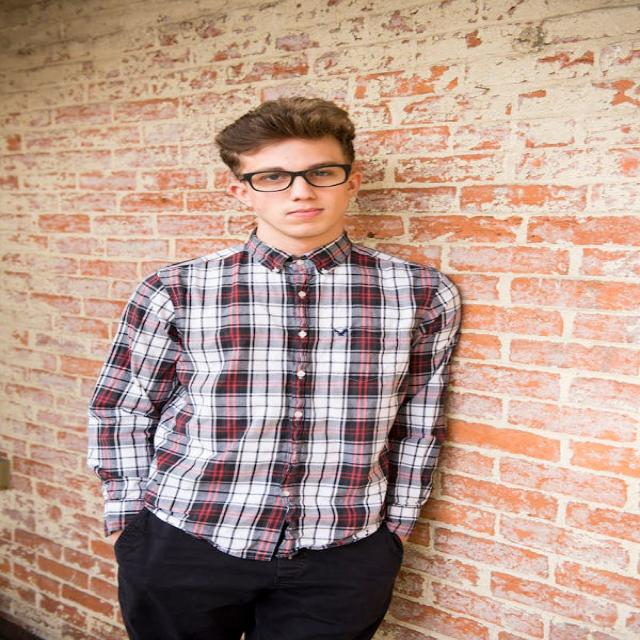Real human 2: (62, 80, 495, 640)
